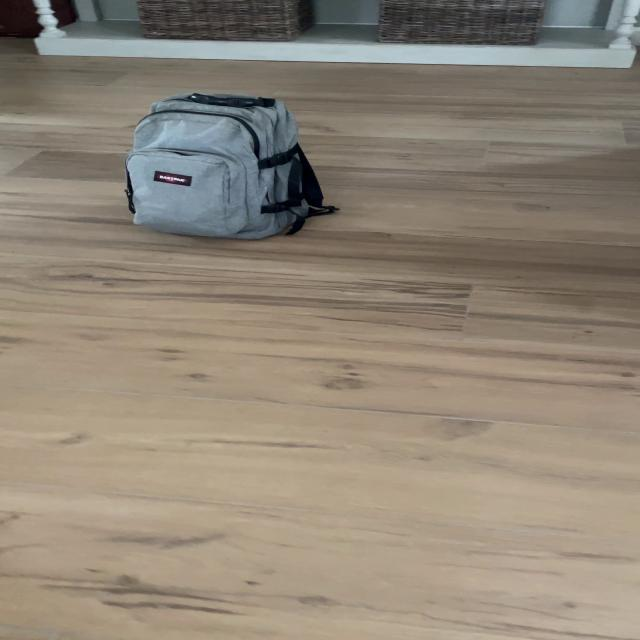backpack: (113, 84, 334, 246)
